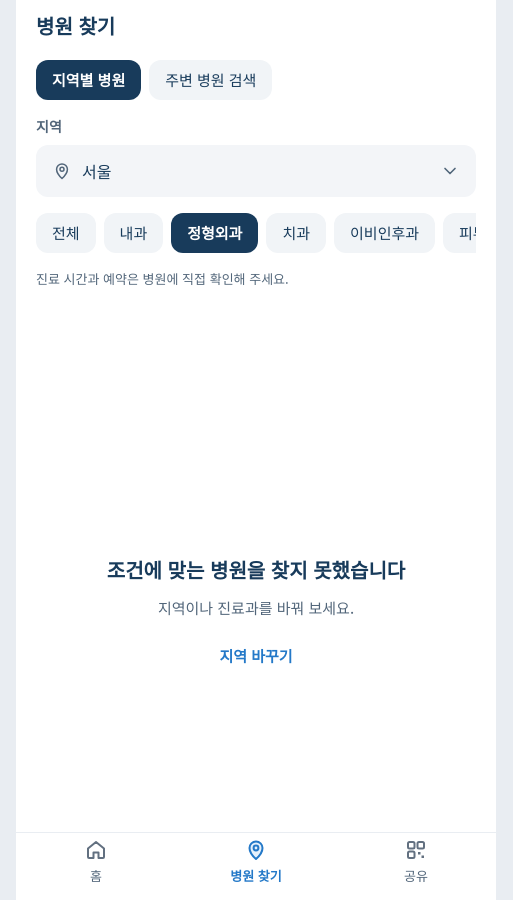
Test: 세션 조회가 지연돼도 120초 후 검색을 종료한다
Expected: the text "조건에 맞는 병원을 찾지 못했습니다" is shown, [107,556,405,584]
Click the radio button labelled "주변 병원 검색".
click(211, 80)  # box [149,60,272,100]
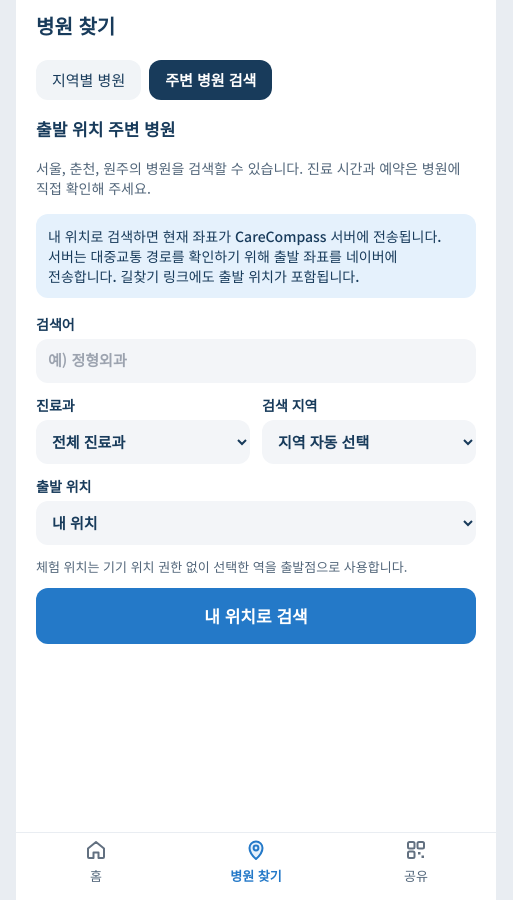
Type "정형외과" into the search field labelled "검색어".
click(256, 360); type("정형외과")  # box [36,338,476,382]
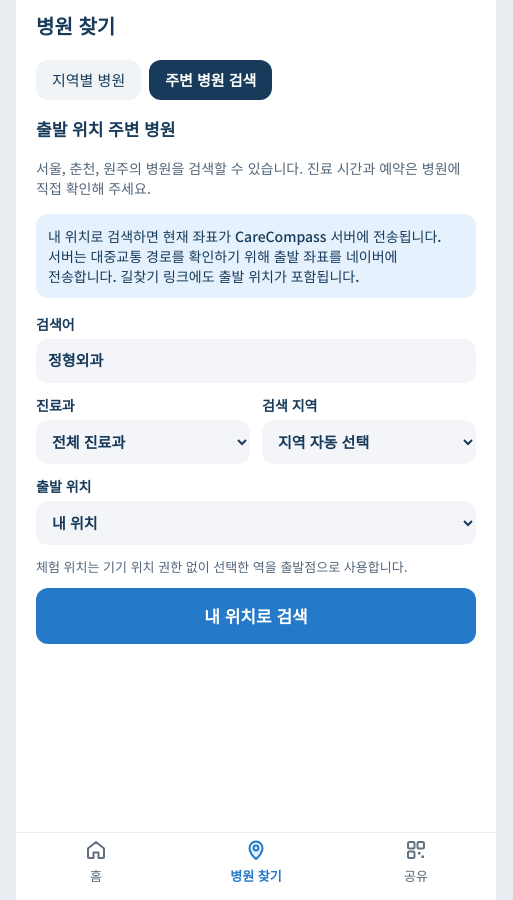
Select "체험 위치 · 서울역" in the dropdown labelled "출발 위치" at (256, 522), box [36,500,476,544]
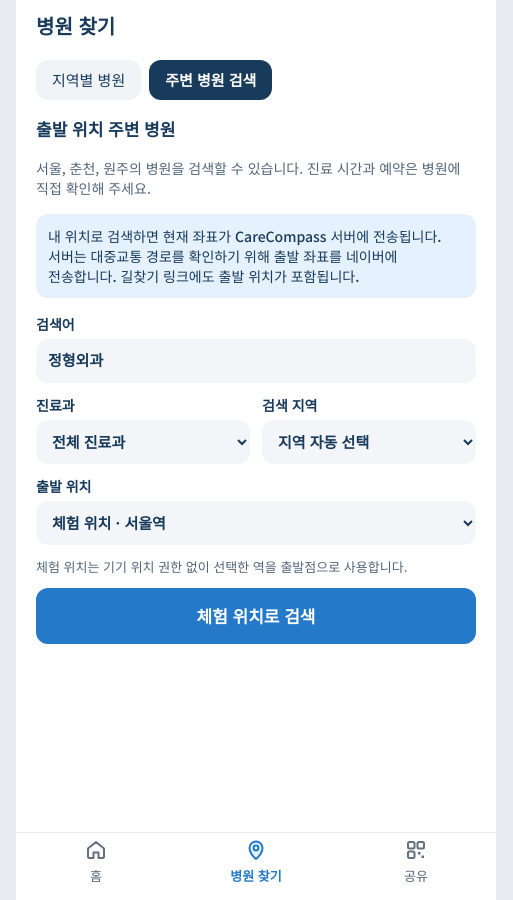
Click the button "체험 위치로 검색".
click(256, 616)  # box [36,588,476,644]
Wait 120000 ms
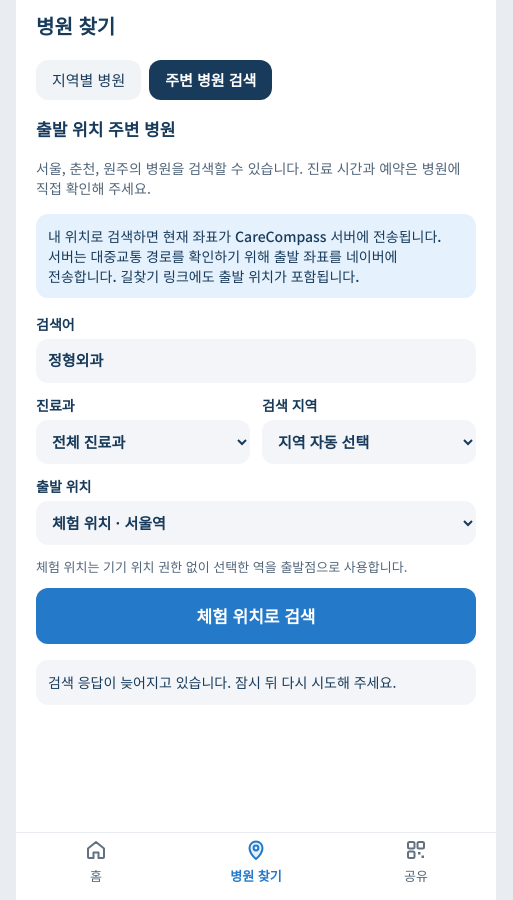
Now the message shows "검색 응답이 늦어지고 있습니다", box [48,672,396,692]
